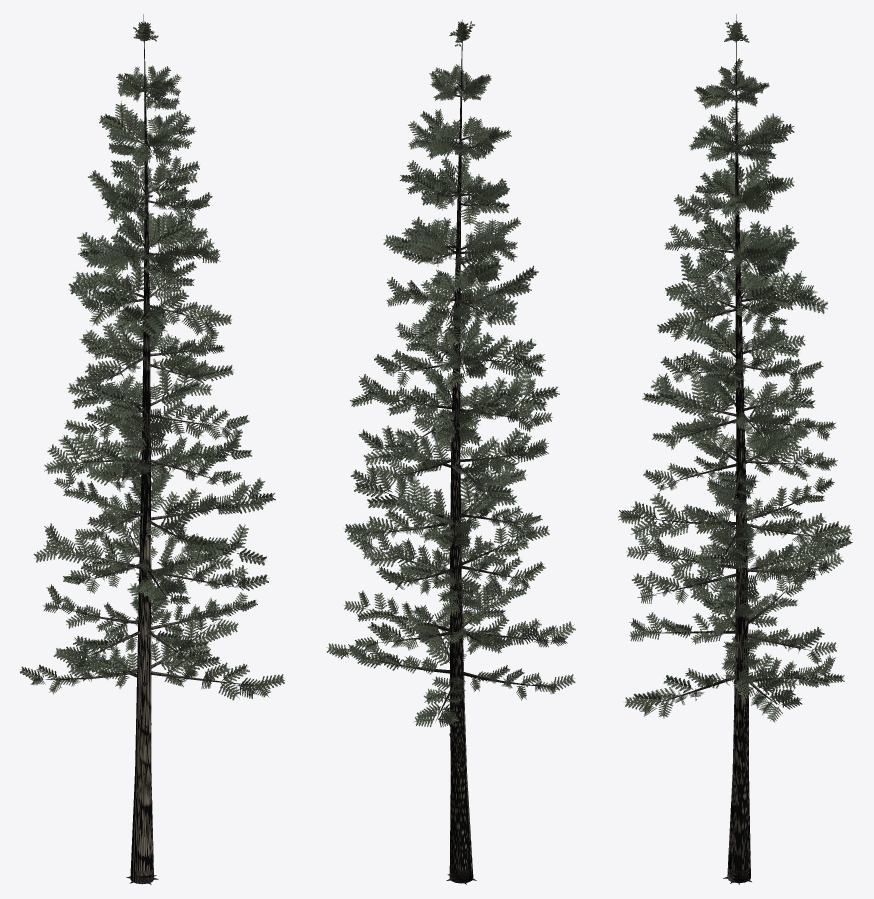
File: Sitka_Young_02_LowPruned_Healed_LOD0.fbx
3 renders of one model, left to right at view 1: azimuth 30°, elevation 25°; view 2: azimuth 150°, elevation 25°; view 3: azimuth 270°, elevation 25°, orthographic.
Parts seen in each view (by area): view 1: Sitka_Young_02_LowPruned_Healed_LOD0; view 2: Sitka_Young_02_LowPruned_Healed_LOD0; view 3: Sitka_Young_02_LowPruned_Healed_LOD0.
Part boxes in pixels (x1,y1,x2,y2): Sitka_Young_02_LowPruned_Healed_LOD0: [20, 14, 284, 884]; Sitka_Young_02_LowPruned_Healed_LOD0: [326, 19, 575, 884]; Sitka_Young_02_LowPruned_Healed_LOD0: [618, 14, 852, 884].
Size of the model in its own units: 303 by 1050 by 273.
3 materials, 3 textured.
